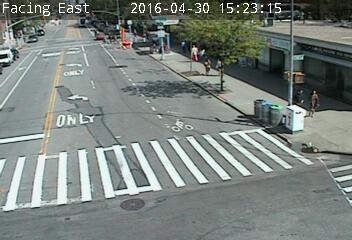neg: (272, 36, 295, 66), (162, 112, 182, 139), (238, 95, 258, 121), (58, 88, 77, 112), (292, 137, 309, 160), (321, 17, 337, 39), (23, 32, 38, 52), (151, 24, 165, 43), (115, 31, 128, 49), (150, 41, 163, 58), (82, 25, 93, 41), (5, 46, 16, 61), (45, 17, 56, 32)
pos: (305, 89, 326, 117), (291, 88, 311, 115), (198, 55, 214, 76), (212, 56, 226, 75), (188, 44, 201, 61), (177, 40, 190, 57)
